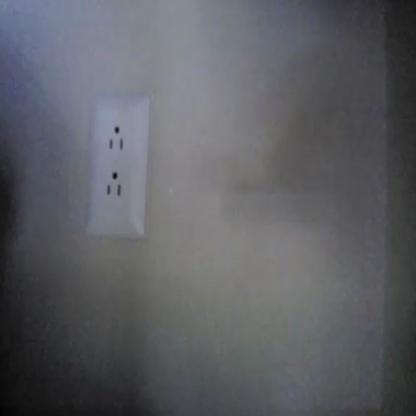OUTLET: (86, 93, 150, 237)
